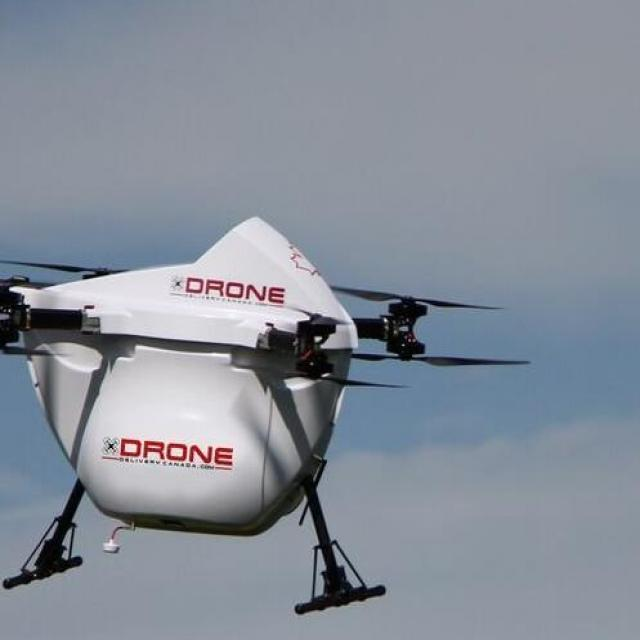drone: (0, 190, 586, 477)
